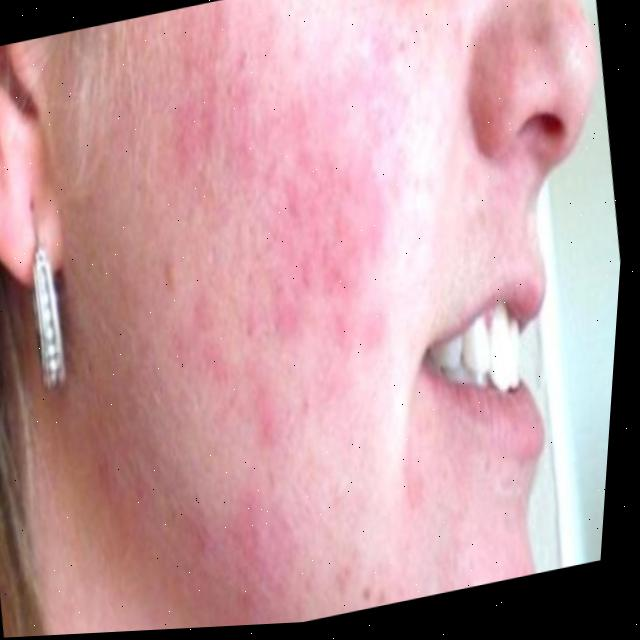Rosacea: (12, 0, 460, 637)
